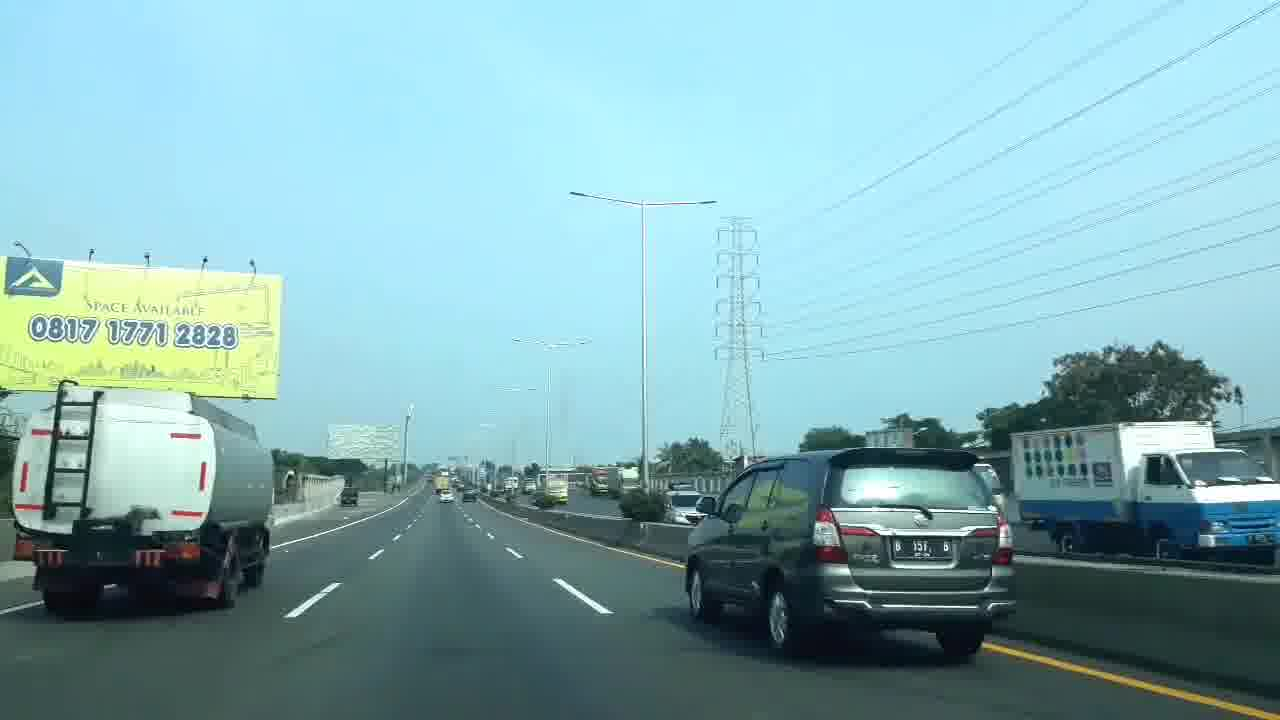plate_positive: (890, 537, 954, 562)
